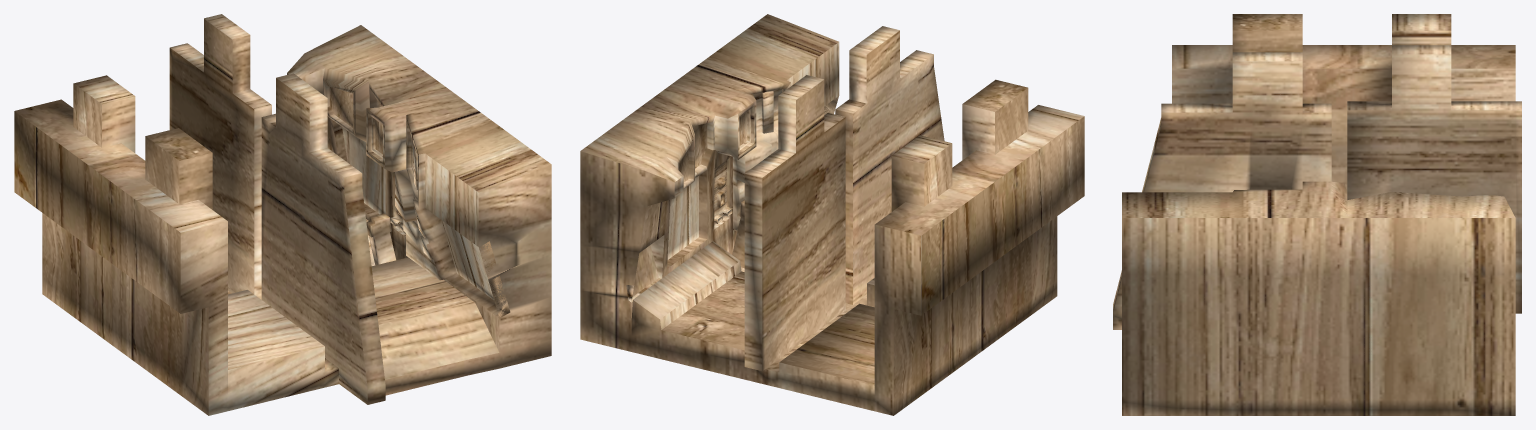
The model's file is camionnete_tb.obj.
The picture shows the model from 3 angles, left to right: view 1: azimuth 30°, elevation 25°; view 2: azimuth 150°, elevation 25°; view 3: azimuth 270°, elevation 25°; orthographic projection. The views are drawn at different scales.
Parts seen in each view (by area): view 1: Cube.001; view 2: Cube.001; view 3: Cube.001.
Part boxes in pixels (bbox=[...]): Cube.001: bbox=[14, 14, 551, 415]; Cube.001: bbox=[580, 14, 1084, 415]; Cube.001: bbox=[1113, 14, 1521, 415].
Size of the model in its own units: 13.29 by 9.77 by 13.14.
Materials: 1 (1 with a texture image).
